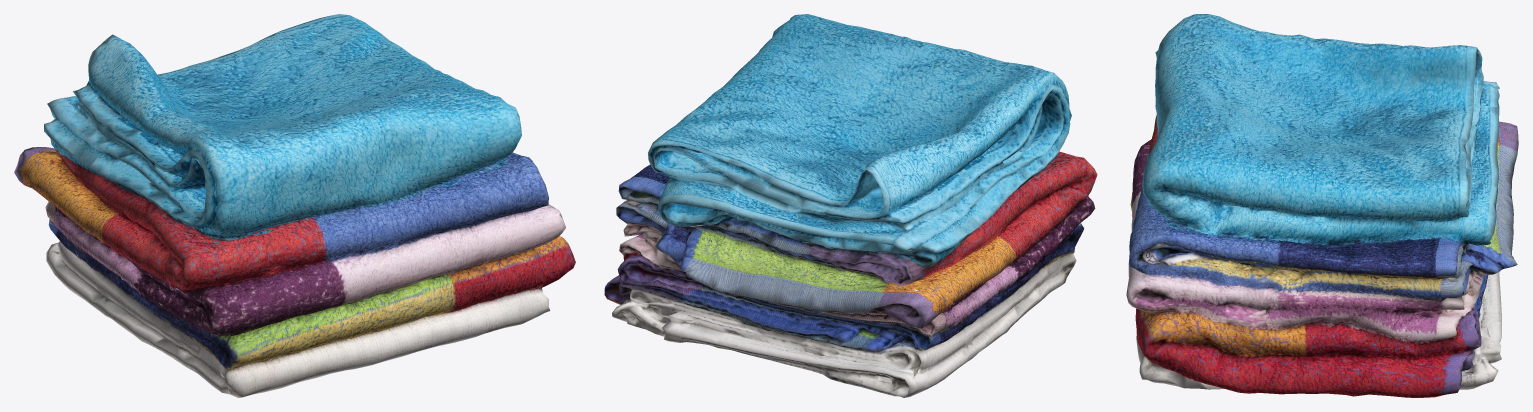
The model's file is bk_towels.glb.
3 renders of one model, left to right at view 1: azimuth 30°, elevation 25°; view 2: azimuth 150°, elevation 25°; view 3: azimuth 270°, elevation 25°, orthographic. The views are drawn at different scales.
Parts seen in each view (by area): view 1: towels_LOW; view 2: towels_LOW; view 3: towels_LOW.
Boxes of the visible parts, <box> form: towels_LOW: <box>14,14,575,397</box>; towels_LOW: <box>604,14,1097,397</box>; towels_LOW: <box>1126,14,1518,397</box>.
Size of the model in its own units: 0.2862 by 0.1715 by 0.2634.
1 material, 1 textured.
